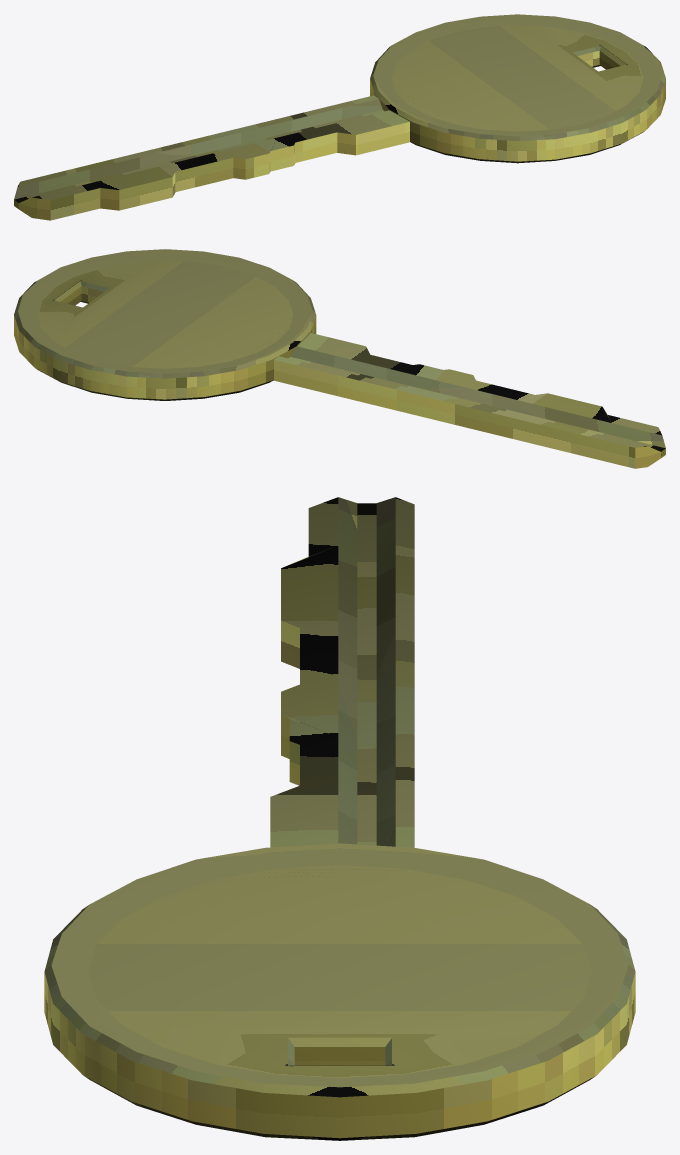
File: GkeyyaleZ.obj
The picture shows the model from 3 angles, top to bottom: view 1: azimuth 30°, elevation 25°; view 2: azimuth 150°, elevation 25°; view 3: azimuth 270°, elevation 25°; orthographic projection. The views are drawn at different scales.
Size of the model in its own units: 828 by 34 by 340.
1 material, 1 textured.
